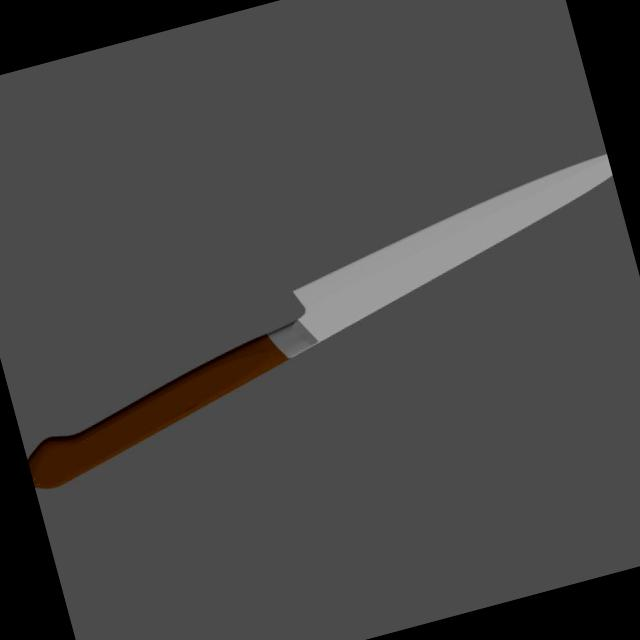knife: (12, 328, 306, 493)
